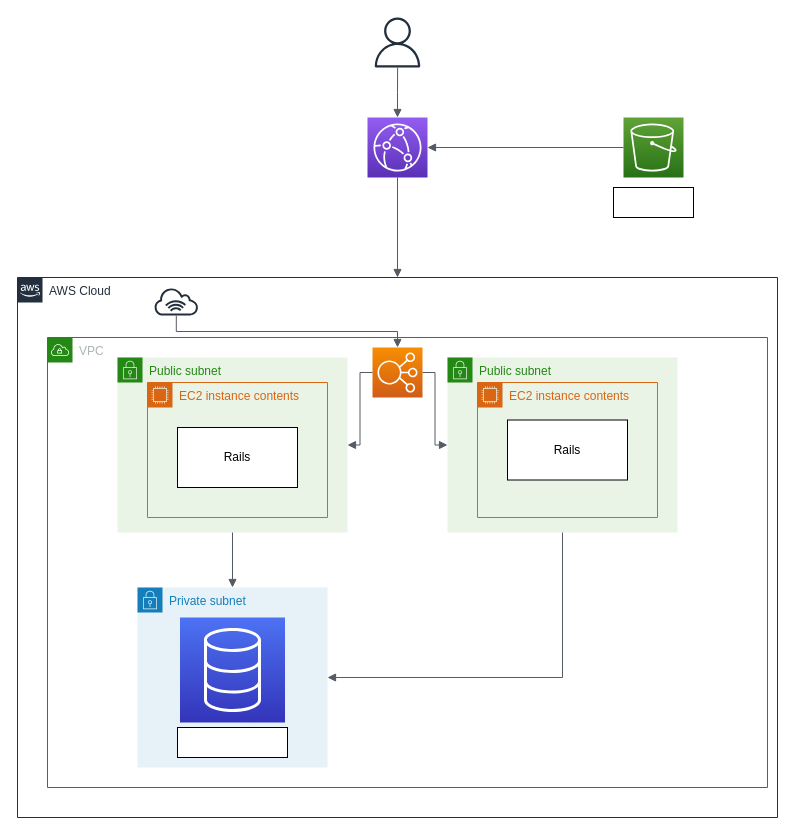
Image size: 795x835. Some labels were removed from this diagram. The shapes that lost their labels are listed below. From the top down, each one's centre as x and y in pixels, then its label:
At (x=653, y=202): "React".
At (x=232, y=742): "PostgreSQL".
